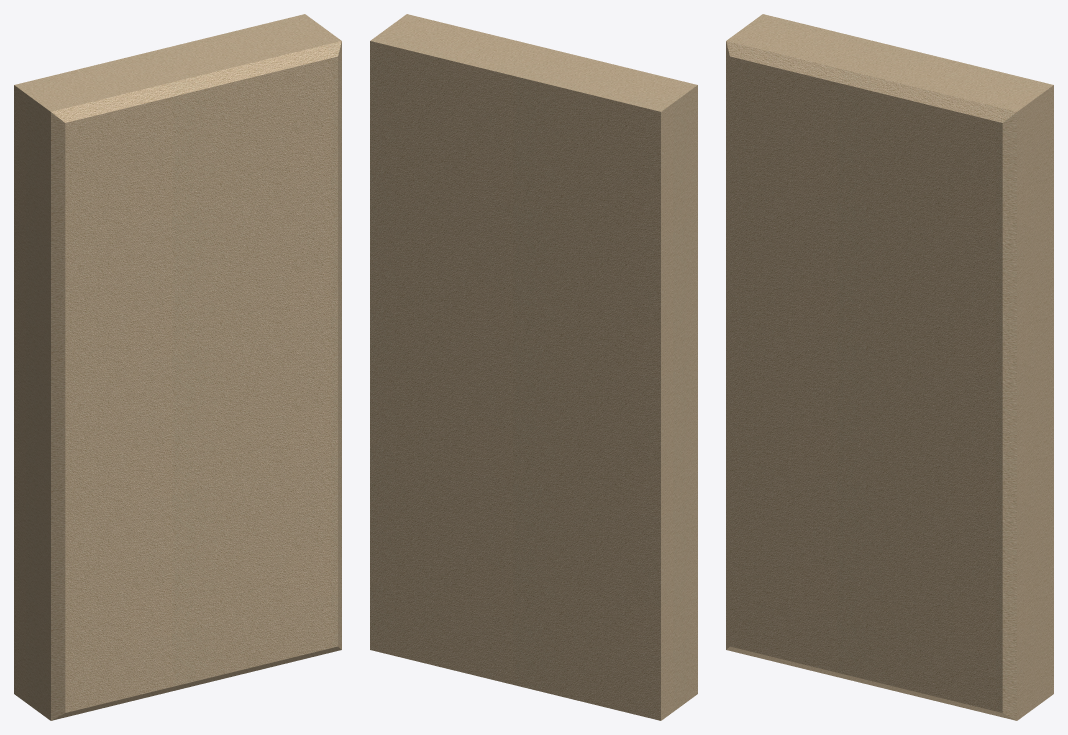
File: RealAB Broadband.glb
3 views of the same model, side by side, from view 1: azimuth 30°, elevation 25°; view 2: azimuth 150°, elevation 25°; view 3: azimuth 330°, elevation 25° (orthographic).
Visible parts, largest first — view 1: RealAB Broadband; view 2: RealAB Broadband; view 3: RealAB Broadband.
Part boxes in pixels (bbox=[...]): RealAB Broadband: bbox=[14, 14, 341, 720]; RealAB Broadband: bbox=[370, 14, 697, 720]; RealAB Broadband: bbox=[726, 14, 1053, 720].
Size of the model in its own units: 24 by 48 by 6.
1 material, 1 textured.
